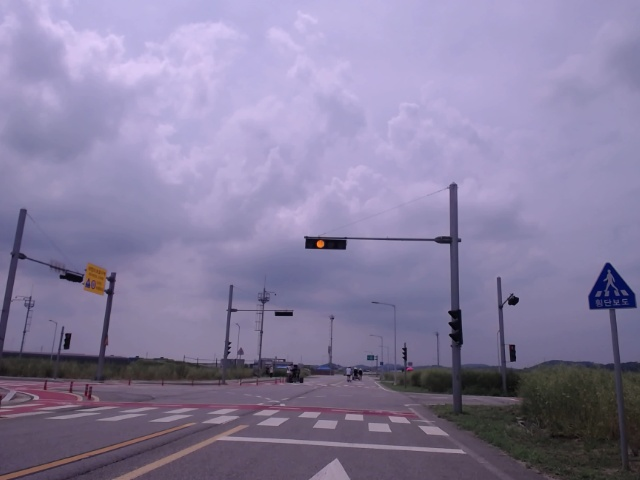orange_4: (305, 236, 348, 252)
